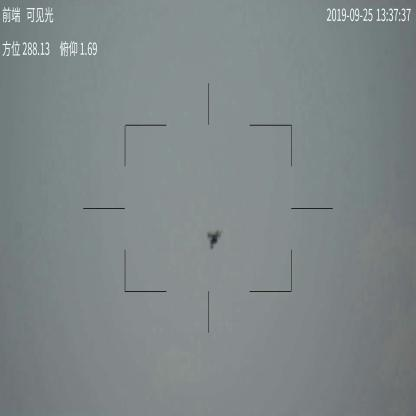uav: (204, 229, 224, 252)
